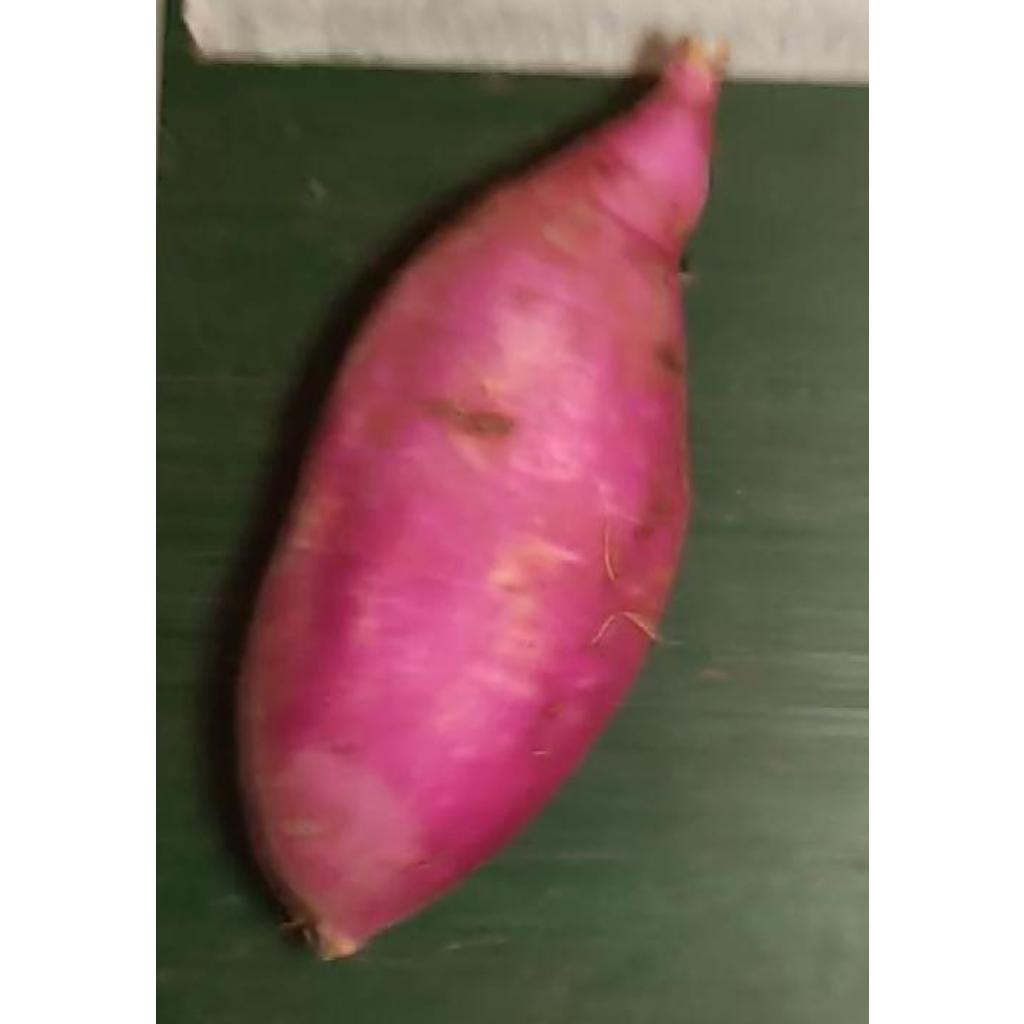Sweet Potato: (229, 55, 719, 965)
